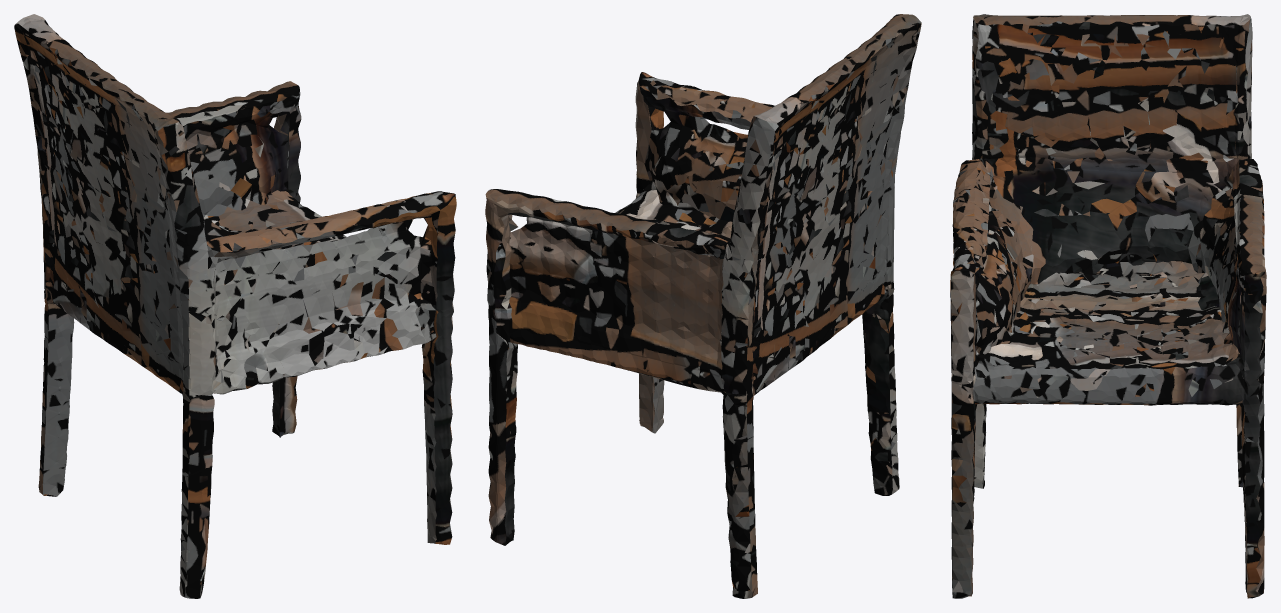
The model's file is elem_94_115_131_213_4_0.obj.
The picture shows the model from 3 angles, left to right: view 1: azimuth 30°, elevation 25°; view 2: azimuth 150°, elevation 25°; view 3: azimuth 270°, elevation 25°; orthographic projection. The views are drawn at different scales.
Size of the model in its own units: 0.4431 by 0.707 by 0.4405.
1 material, 1 textured.
